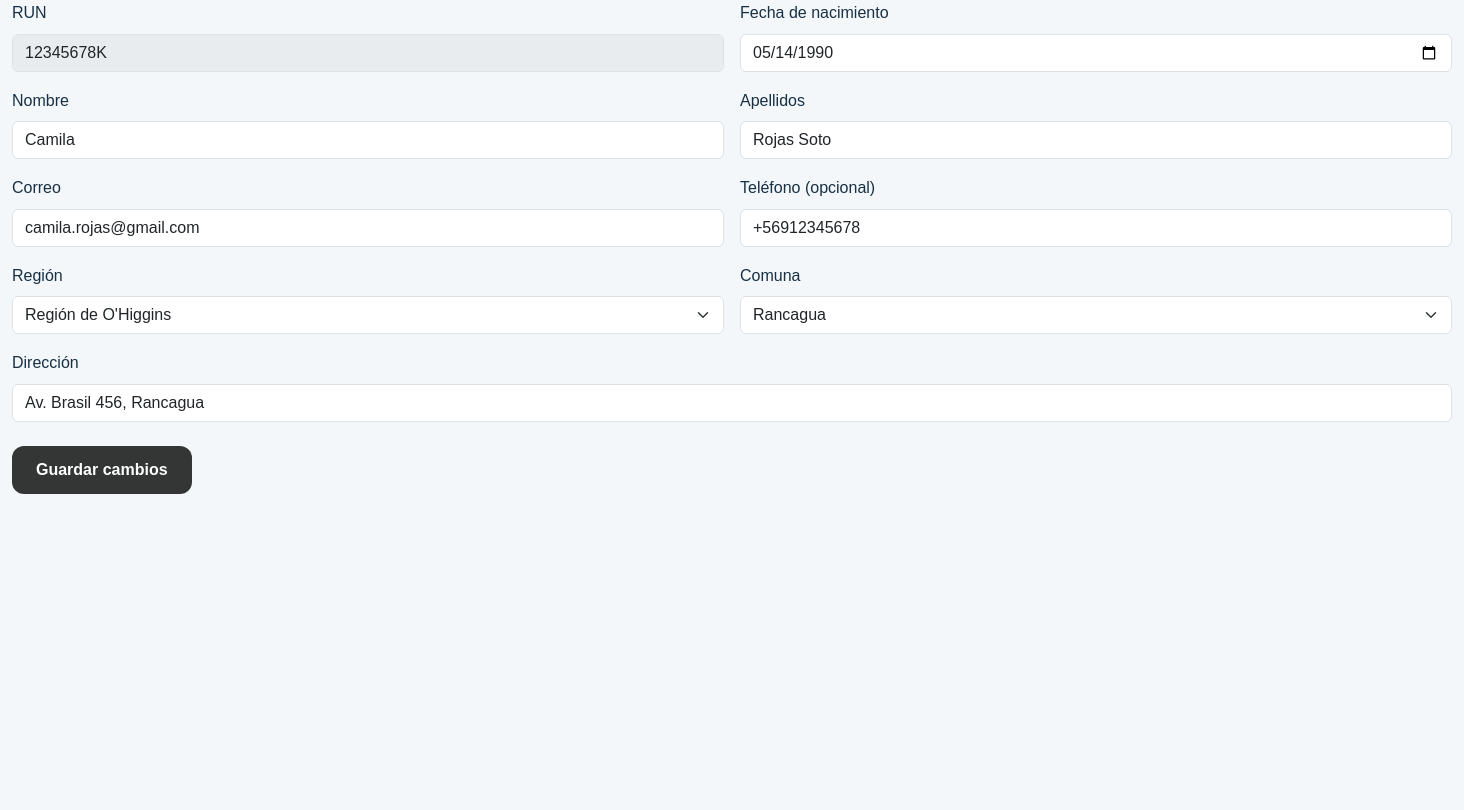
Test case: FormularioPerfil › rechaza un teléfono con letras
This screenshot has width=1464, height=810.
Type "abc" into the field labelled "Teléfono (opcional)" at (1096, 228), box [740,209,1452,247]
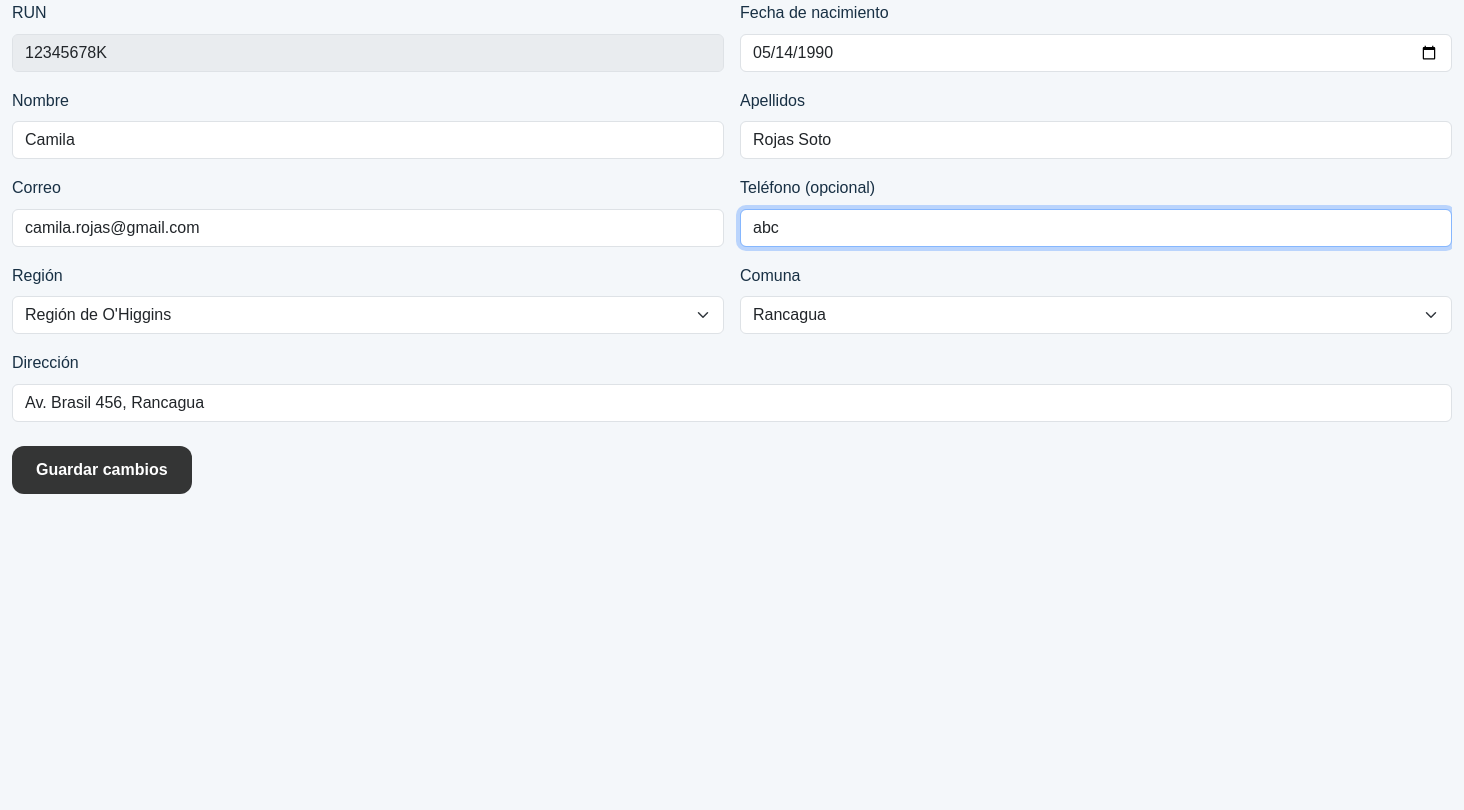
Click the button "Guardar cambios" at (102, 470), box [12,446,192,494]
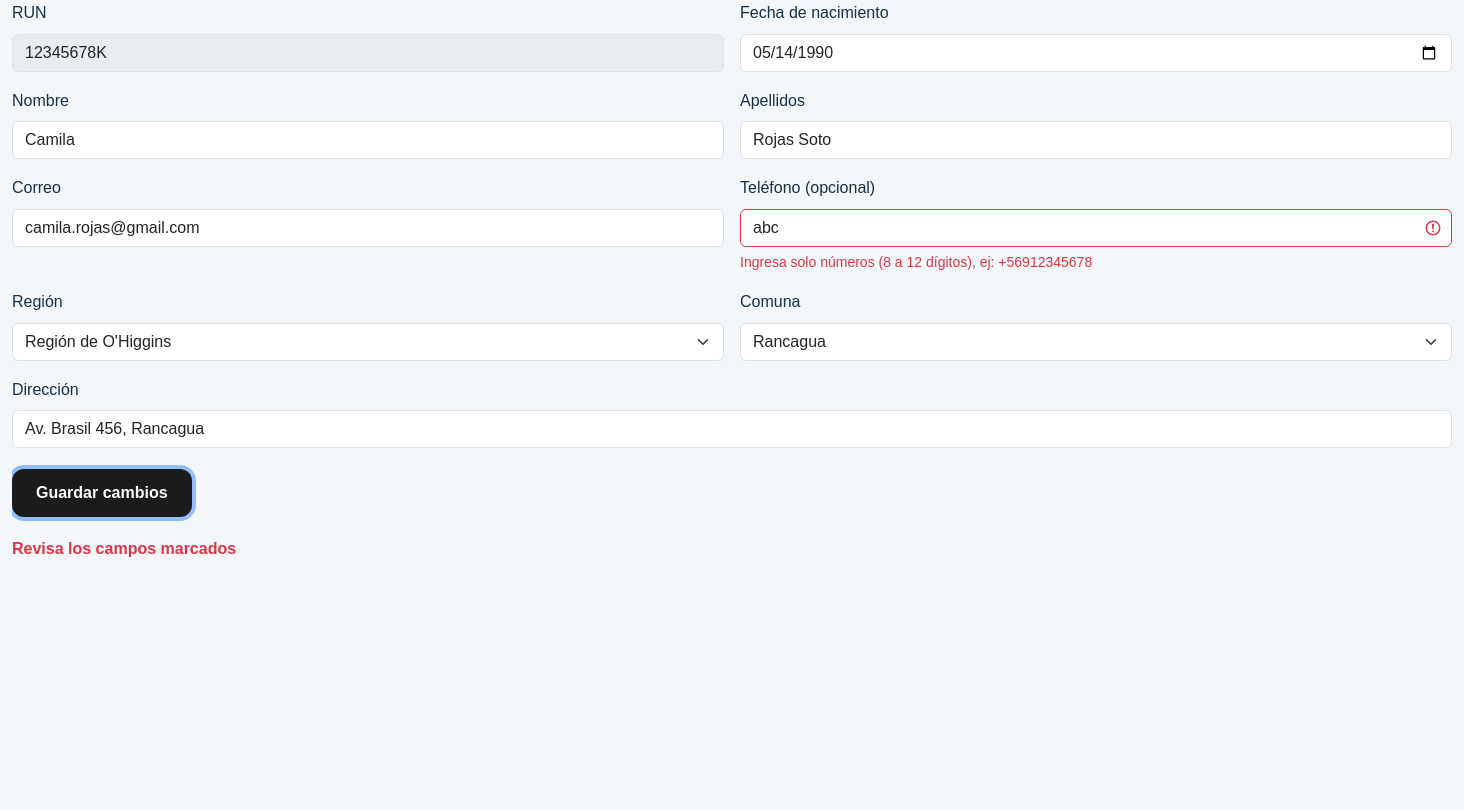
Expected: the text "Ingresa solo números (8 a 12 dígitos), ej: +56912345678" is shown, [740,254,1092,270]
